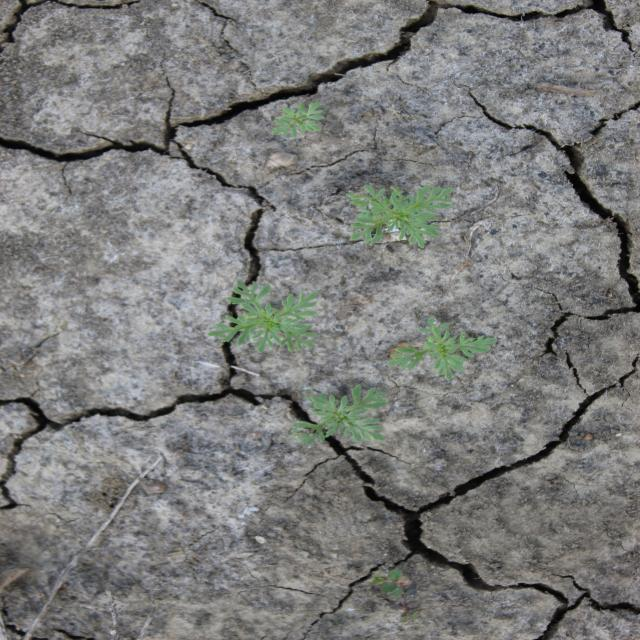Ragweed: (205, 279, 322, 353), (384, 316, 501, 383), (343, 182, 455, 248), (288, 383, 391, 446), (270, 98, 326, 140)
